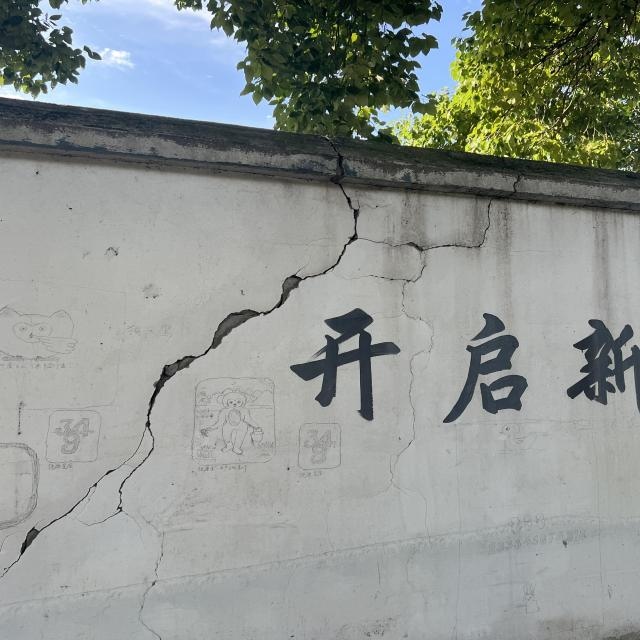crack: (0, 140, 377, 581), (336, 168, 523, 635), (131, 515, 177, 640)
